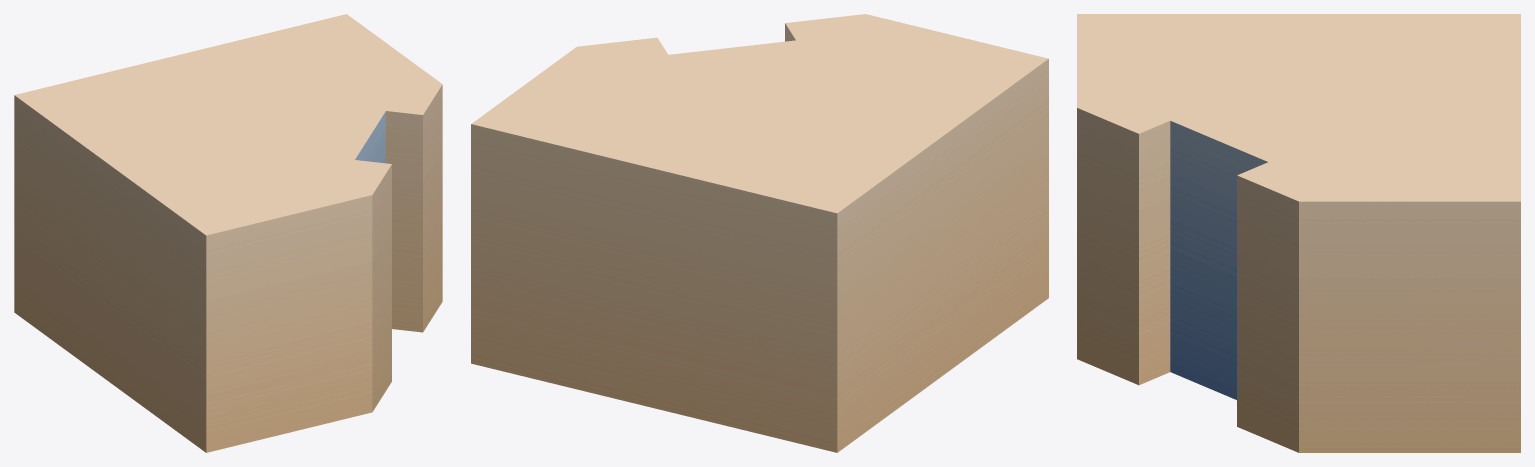
3 renders of one model, left to right at view 1: azimuth 30°, elevation 25°; view 2: azimuth 150°, elevation 25°; view 3: azimuth 270°, elevation 25°, orthographic. The views are drawn at different scales.
Parts seen in each view (by area): view 1: building-corner-window-middle; view 2: building-corner-window-middle; view 3: building-corner-window-middle.
Boxes of the visible parts, box(x1,y1,x2,y2) form: building-corner-window-middle: box(14, 14, 442, 452); building-corner-window-middle: box(471, 14, 1048, 452); building-corner-window-middle: box(1077, 14, 1520, 452).
Bounding box in the file's own units: 1 × 0.625 × 1.
1 material, 1 textured.
